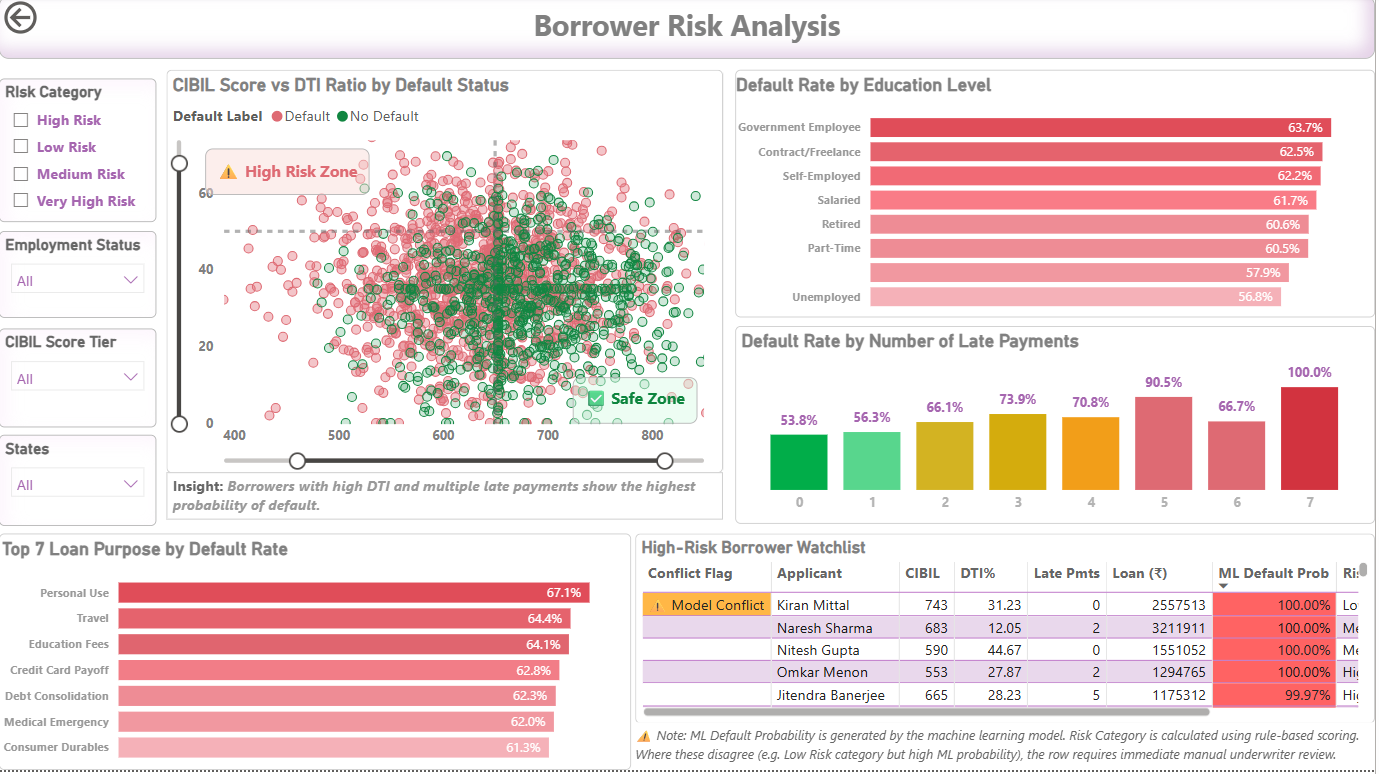

The page's visual inventory and layout, read from the dashboard file:
{"tool":"powerbi","page":{"name":"Borrower Risk Analysis","canvas":[1280,720],"ordinal":1},"visuals":[{"type":"textbox","box":[0,0,1280.2,58.1],"z":0},{"type":"scatterChart","title":"CIBIL Score vs DTI Ratio by Default Status","fields":{"Y":["Avg(loan_default_clean_analysed.dti_ratio)"],"Category":["loan_default_clean_analysed.loan_amount_inr"],"X":["Avg(loan_default_clean_analysed.credit_score)"],"Series":["loan_default_clean_analysed.default_label"]},"box":[155.8,68.6,517.4,375.6],"z":1000},{"type":"columnChart","title":"Default Rate by Number of Late Payments","fields":{"Y":["loan_default_clean_analysed.Default Rate"],"Category":["loan_default_clean_analysed.num_late_payments"]},"box":[684.4,307,595.6,183.7],"z":2000},{"type":"tableEx","title":"High-Risk Borrower Watchlist","fields":{"Values":["loan_default_clean_analysed.Conflict Flag","loan_default_clean_analysed.applicant_name","Sum(loan_default_clean_analysed.credit_score)","Sum(loan_default_clean_analysed.dti_ratio)","Sum(loan_default_clean_analysed.num_late_payments)","Sum(loan_default_clean_analysed.loan_amount_inr)","loan_default_clean_analysed.ml_default_probability","loan_default_clean_analysed.risk_category","loan_default_clean_analysed.default_label"]},"box":[592,499.5,688,176.5],"z":3000},{"type":"actionButton","box":[0,0,100,40],"z":4000},{"type":"barChart","title":"Default Rate by Education Level","fields":{"Category":["loan_default_clean_analysed.employment_status"],"Y":["loan_default_clean_analysed.Default Rate"]},"box":[684.4,68.4,595.6,230.5],"z":5000},{"type":"barChart","title":"Top 7 Loan Purpose by Default Rate","fields":{"Y":["loan_default_clean_analysed.Default Rate"],"Category":["loan_default_clean_analysed.loan_purpose"]},"box":[0,500,588.4,219.8],"z":6000},{"type":"slicer","title":"RIsk Category","fields":{"Values":["loan_default_clean_analysed.risk_category"]},"box":[0,76.5,146.1,133.6],"z":7000},{"type":"slicer","title":"Employment Status","fields":{"Values":["loan_default_clean_analysed.employment_status"]},"box":[0,218.4,146.1,80.7],"z":8000},{"type":"slicer","title":"CIBIL Score Tier","fields":{"Values":["loan_default_clean_analysed.credit_tier"]},"box":[0,308.9,146.1,91.8],"z":9000},{"type":"slicer","title":"States","fields":{"Values":["loan_default_clean_analysed.state"]},"box":[0,407.7,146.1,84.9],"z":10000},{"type":"textbox","box":[533.7,354.7,116.3,43],"z":11000},{"type":"textbox","box":[192.1,141.7,152.5,43.2],"z":12000},{"type":"textbox","box":[592,676,688,44.4],"z":13000},{"type":"textbox","box":[155.8,443,517.4,44.2],"z":14000}]}

Visuals, with their boxes in screenshot pixels (x1, y1, x2, y2), scaled from the page's 1280x720 canvas onto the 1379x774 screenshot:
textbox: [x1=0, y1=0, x2=1378, y2=62]
"CIBIL Score vs DTI Ratio by Default Status" scatterChart: [x1=168, y1=74, x2=725, y2=478]
"Default Rate by Number of Late Payments" columnChart: [x1=737, y1=330, x2=1378, y2=528]
"High-Risk Borrower Watchlist" tableEx: [x1=638, y1=537, x2=1378, y2=727]
actionButton: [x1=0, y1=0, x2=108, y2=43]
"Default Rate by Education Level" barChart: [x1=737, y1=74, x2=1378, y2=321]
"Top 7 Loan Purpose by Default Rate" barChart: [x1=0, y1=538, x2=634, y2=773]
"RIsk Category" slicer: [x1=0, y1=82, x2=157, y2=226]
"Employment Status" slicer: [x1=0, y1=235, x2=157, y2=322]
"CIBIL Score Tier" slicer: [x1=0, y1=332, x2=157, y2=431]
"States" slicer: [x1=0, y1=438, x2=157, y2=530]
textbox: [x1=575, y1=381, x2=700, y2=428]
textbox: [x1=207, y1=152, x2=371, y2=199]
textbox: [x1=638, y1=727, x2=1378, y2=773]
textbox: [x1=168, y1=476, x2=725, y2=524]
